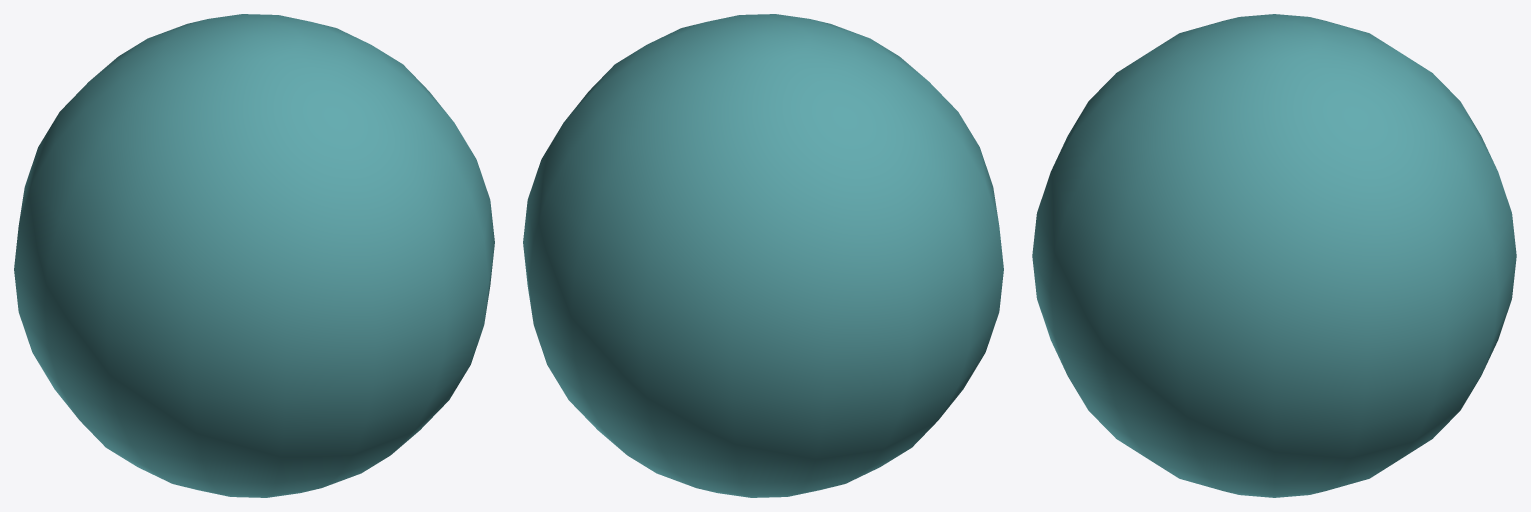
The model's file is MarbleTearDrop01_Ben.fbx.
The picture shows the model from 3 angles, left to right: view 1: azimuth 30°, elevation 25°; view 2: azimuth 150°, elevation 25°; view 3: azimuth 270°, elevation 25°; orthographic projection.
Parts seen in each view (by area): view 1: MarbleTearDrop; view 2: MarbleTearDrop; view 3: MarbleTearDrop.
Boxes of the visible parts, x1,y1,x2,y2 form: MarbleTearDrop: (14,14,494,497); MarbleTearDrop: (523,14,1003,497); MarbleTearDrop: (1032,14,1516,497).
Size of the model in its own units: 4 by 4 by 4.
